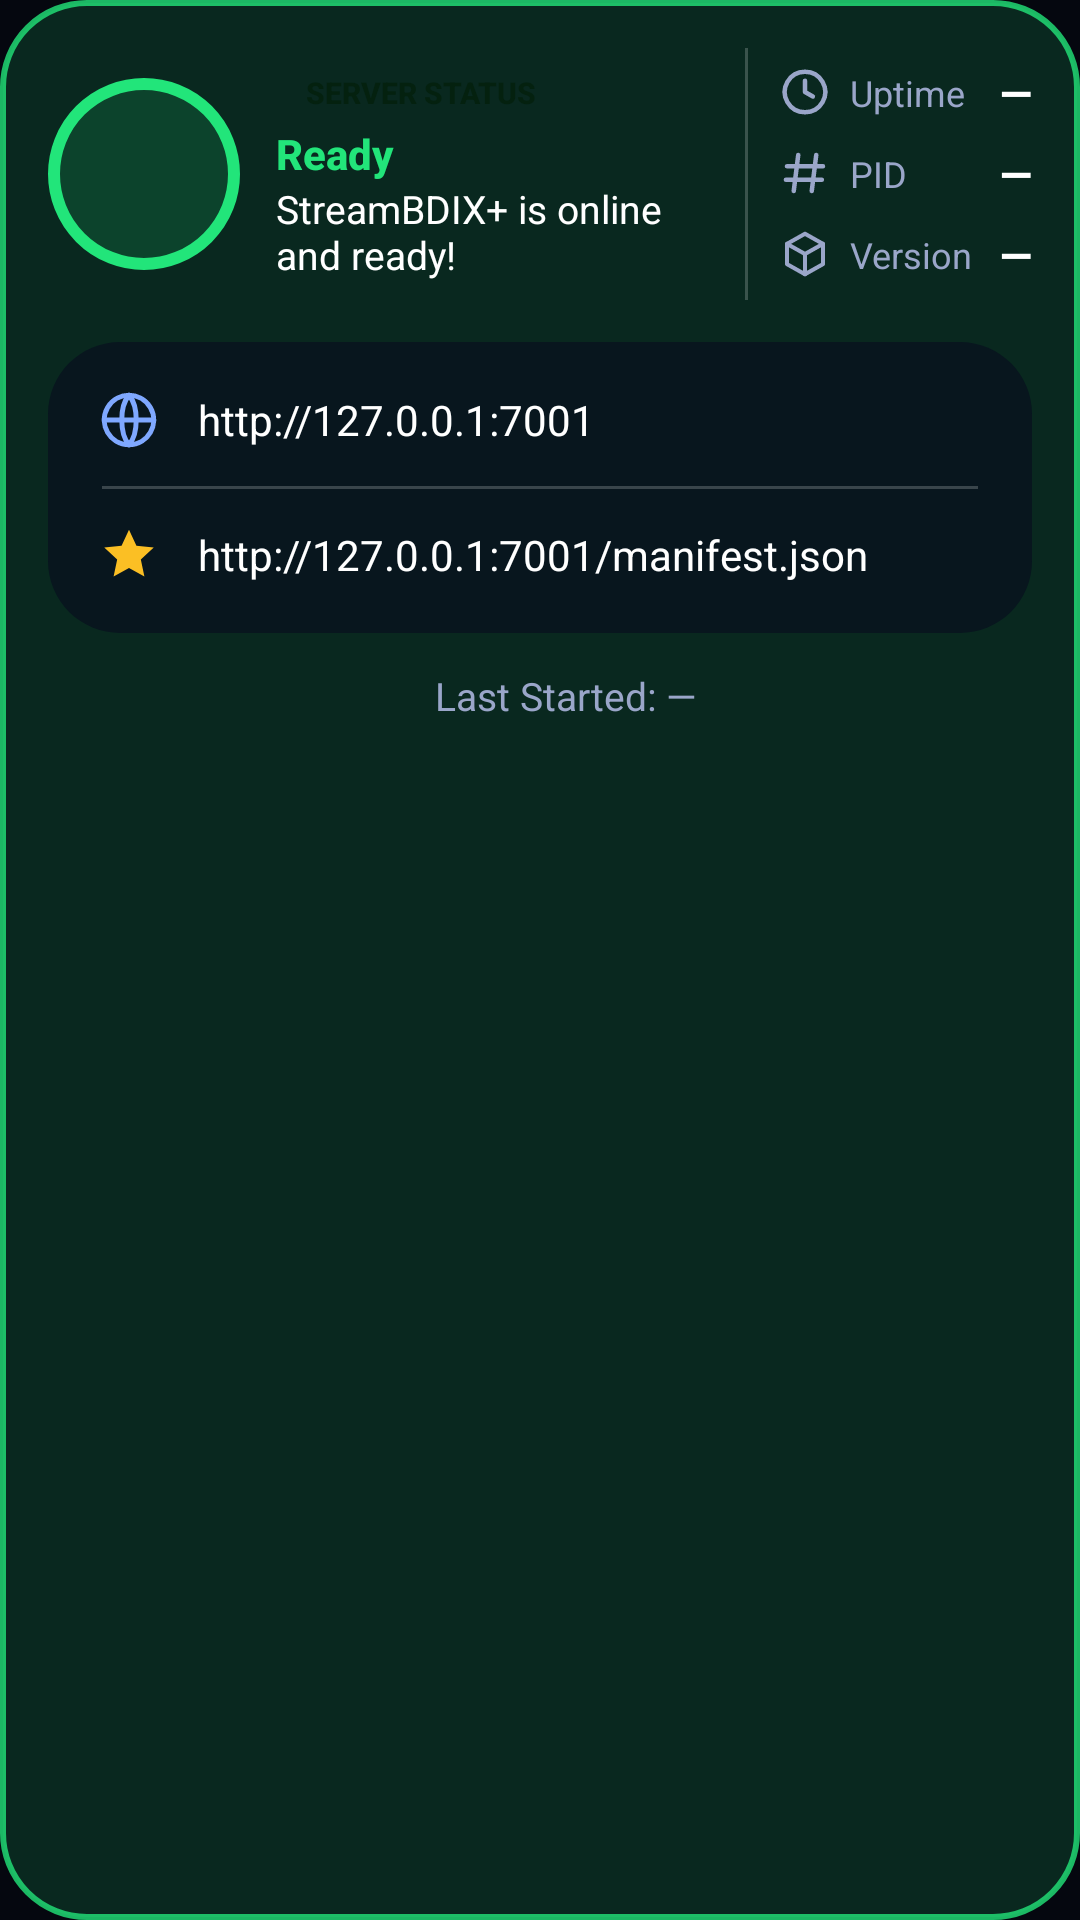

Icon bounding boxes for this 1080x1920 phone screenshot, format Rect(x1, y1, x2, y2):
clock: Rect(782, 69, 828, 115)
cube: Rect(785, 231, 825, 277)
globe: Rect(101, 392, 157, 448)
hash: Rect(783, 152, 825, 194)
star: Rect(104, 530, 154, 577)
status ring: Rect(48, 78, 240, 270)
